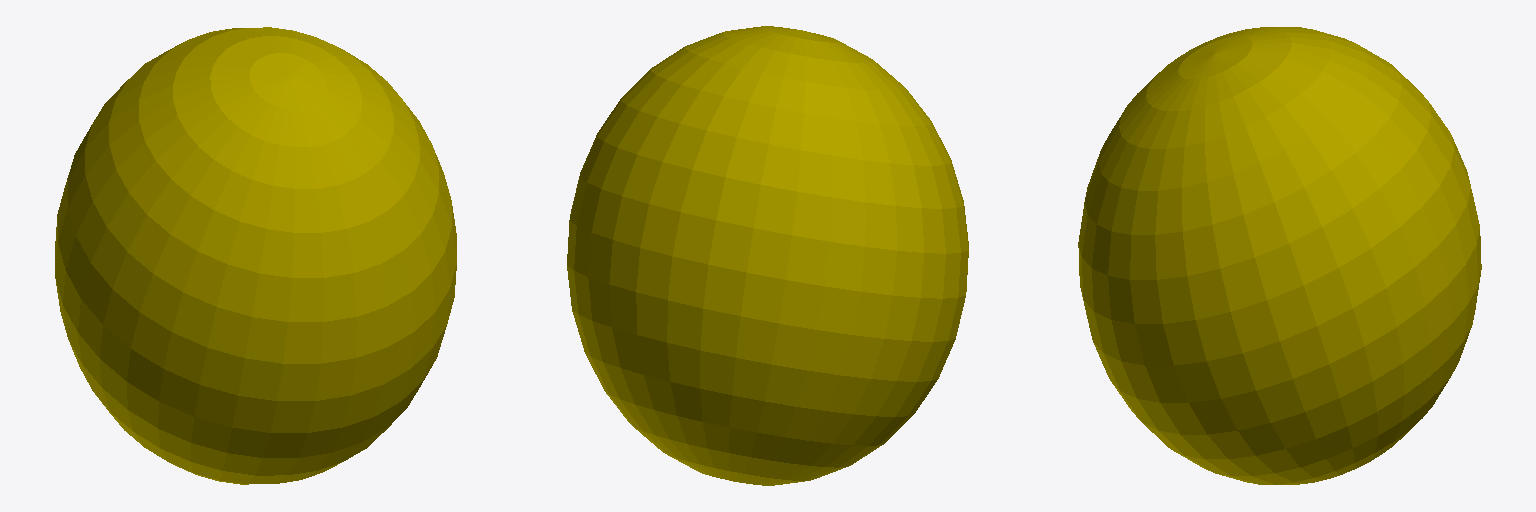
File: Crown.obj
The picture shows the model from 3 angles: view 1: azimuth 30°, elevation 25°; view 2: azimuth 150°, elevation 25°; view 3: azimuth 270°, elevation 25°; orthographic projection.
Visible parts, largest first — view 1: Sphere001; view 2: Sphere001; view 3: Sphere001.
Boxes of the visible parts, x1,y1,x2,y2 form: Sphere001: [55, 27, 456, 484]; Sphere001: [567, 26, 968, 485]; Sphere001: [1078, 27, 1481, 484].
Size of the model in its own units: 39092 by 45508 by 39020.